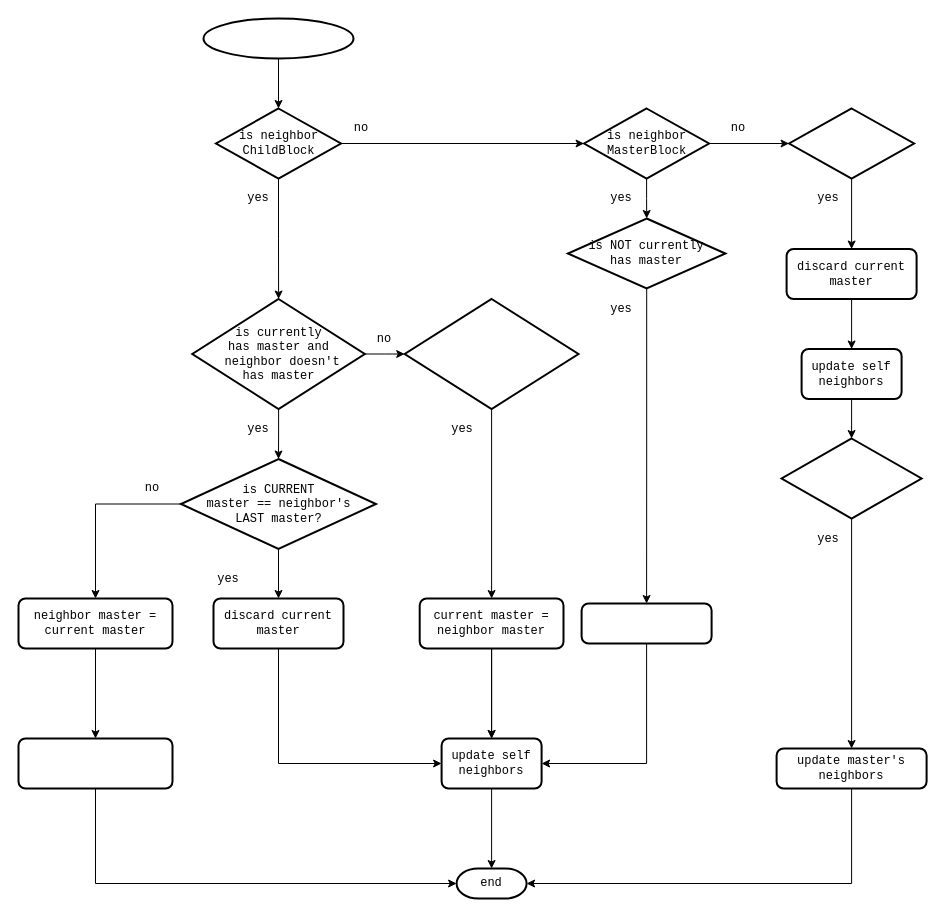
This 945x916 diagram has some shape labels left out. The centre of each missing label's shape, as x and y in pixels:
"current master = neighbor" belongs at point (646, 623).
"is currently DOESN'T have master and neighbor has master" belongs at point (491, 354).
"is currently has master" belongs at point (851, 143).
"is last parent still present" belongs at point (851, 478).
"neighborUpdate()" belongs at point (278, 38).
"update neighbor's neighbors" belongs at point (95, 763).
